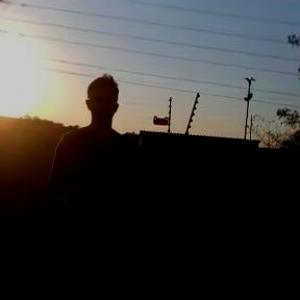follow: (40, 66, 136, 299)
